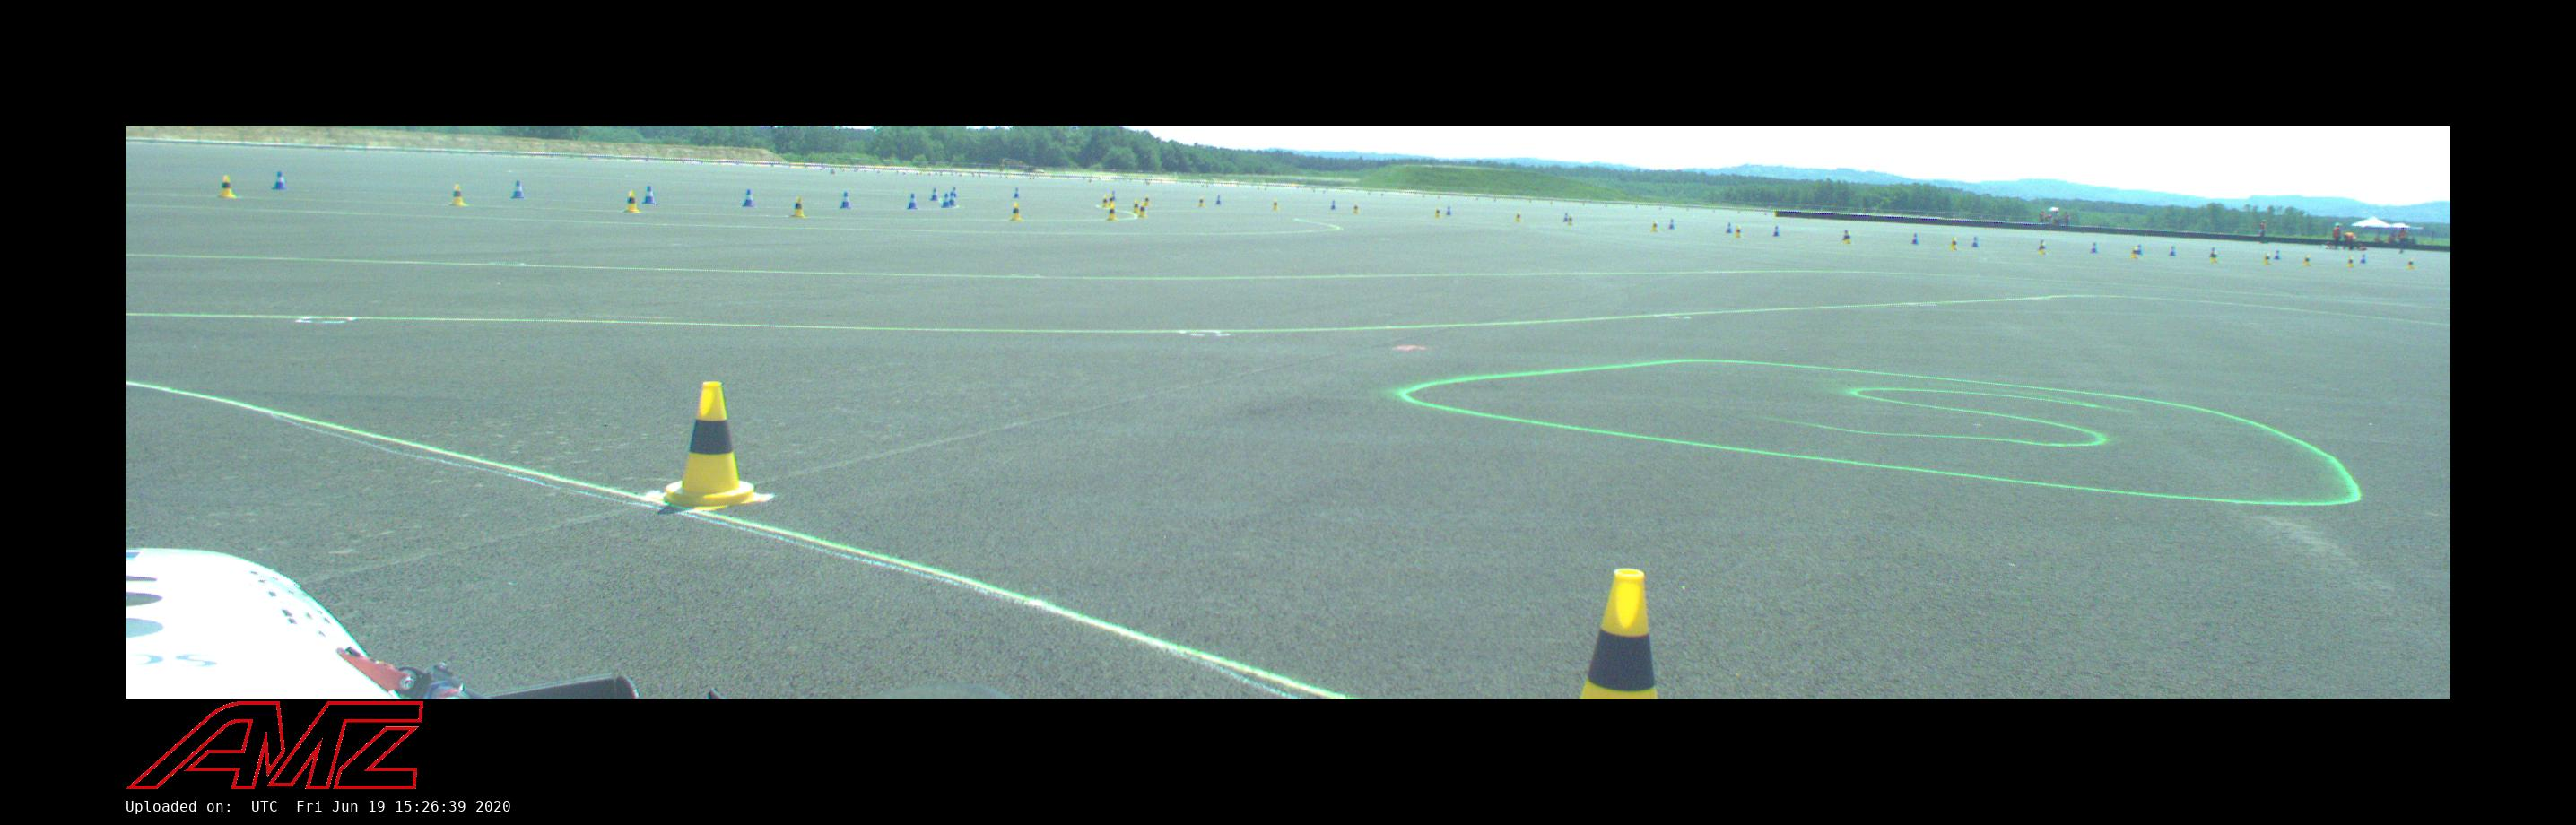blue_cone: (271, 171, 287, 191), (511, 181, 524, 199), (642, 186, 655, 204), (743, 189, 754, 207), (840, 191, 851, 209), (907, 192, 918, 209), (941, 192, 951, 207), (948, 192, 955, 207), (1725, 222, 1733, 233), (1014, 186, 1020, 199), (930, 189, 938, 199), (1667, 219, 1676, 228), (2169, 247, 2177, 256), (2210, 248, 2218, 258), (2037, 240, 2045, 250), (1911, 232, 1917, 243), (2136, 243, 2142, 255), (1773, 227, 1779, 237), (1971, 237, 1978, 247), (1329, 199, 1336, 209), (1843, 230, 1850, 240), (2359, 253, 2366, 263), (1216, 194, 1222, 204), (1446, 205, 1452, 215), (1562, 212, 1569, 222), (2274, 250, 2280, 258), (2091, 242, 2096, 251), (951, 186, 956, 196)
yellow_cone: (662, 385, 766, 508), (1582, 569, 1656, 698), (217, 174, 233, 197), (623, 191, 639, 212), (450, 184, 465, 205), (792, 197, 805, 217), (1009, 202, 1022, 220), (1107, 202, 1116, 222), (1107, 192, 1116, 207), (1138, 204, 1147, 217), (1272, 199, 1280, 210), (2407, 258, 2415, 270), (1101, 196, 1109, 207), (2211, 250, 2219, 261), (1132, 200, 1138, 214), (2040, 242, 2047, 255), (1733, 227, 1741, 237), (2129, 248, 2137, 258), (1352, 202, 1359, 214), (2303, 255, 2310, 266), (1950, 238, 1957, 250), (1651, 220, 1658, 232), (1845, 232, 1851, 243), (1198, 197, 1204, 207), (2348, 256, 2354, 266), (2264, 253, 2270, 263), (1567, 215, 1574, 225), (1436, 207, 1441, 217), (1516, 212, 1521, 222), (1145, 196, 1150, 205)
